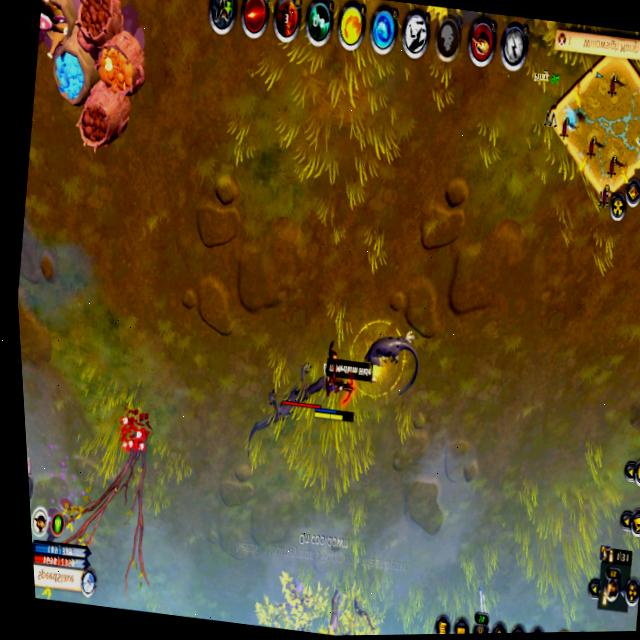hide: (109, 399, 157, 461)
ore: (233, 342, 337, 473)
red: (309, 337, 368, 426)
